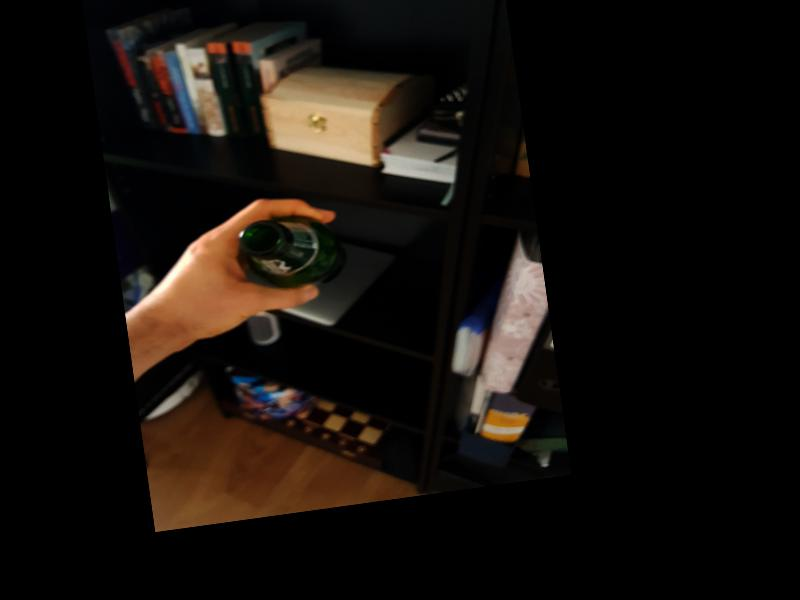Beer: (236, 211, 349, 298)
